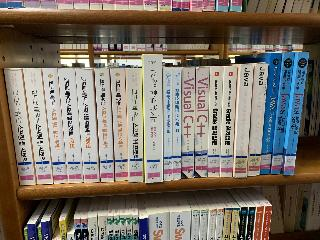book-spine: (3, 66, 35, 187), (23, 66, 53, 186), (282, 51, 310, 176), (269, 51, 295, 175), (258, 52, 282, 175), (59, 66, 84, 184), (43, 67, 68, 184), (75, 67, 99, 183), (144, 54, 163, 183), (247, 62, 268, 176), (233, 63, 253, 178), (95, 68, 114, 182), (126, 68, 144, 183), (219, 66, 237, 178), (111, 68, 128, 181), (194, 67, 210, 178), (207, 66, 222, 177), (181, 67, 195, 178), (172, 67, 181, 179), (164, 67, 172, 181)
